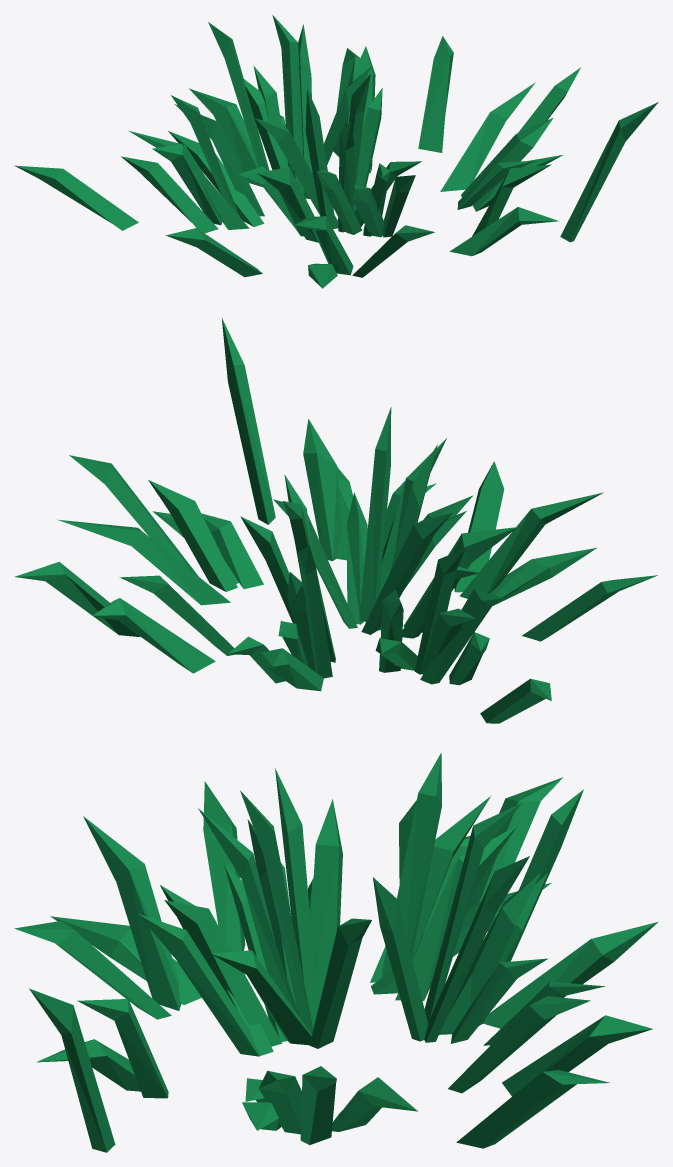
The model's file is grass1.fbx.
3 renders of one model, top to bottom at view 1: azimuth 30°, elevation 25°; view 2: azimuth 150°, elevation 25°; view 3: azimuth 270°, elevation 25°, orthographic. The views are drawn at different scales.
Visible parts, largest first — view 1: SM_Gerneric_Grass_Patch_01; view 2: SM_Gerneric_Grass_Patch_01; view 3: SM_Gerneric_Grass_Patch_01.
Boxes of the visible parts, x1,y1,x2,y2 form: SM_Gerneric_Grass_Patch_01: (14,15,658,288); SM_Gerneric_Grass_Patch_01: (14,317,657,723); SM_Gerneric_Grass_Patch_01: (14,753,657,1152).
Bounding box in the file's own units: 281 × 92 × 216.
